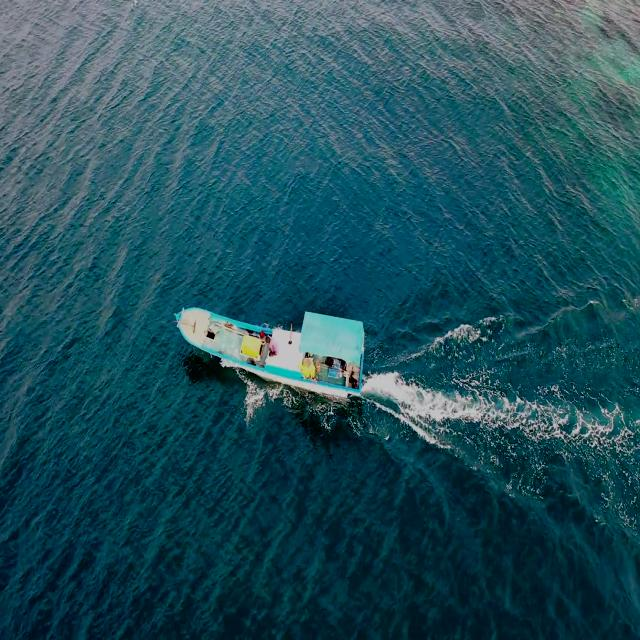ship: (172, 310, 372, 405)
